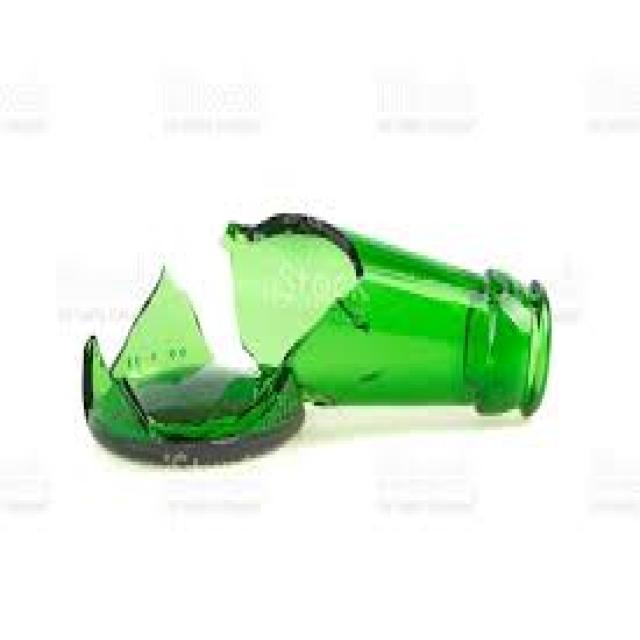glass: (221, 210, 549, 413), (79, 262, 303, 469)
